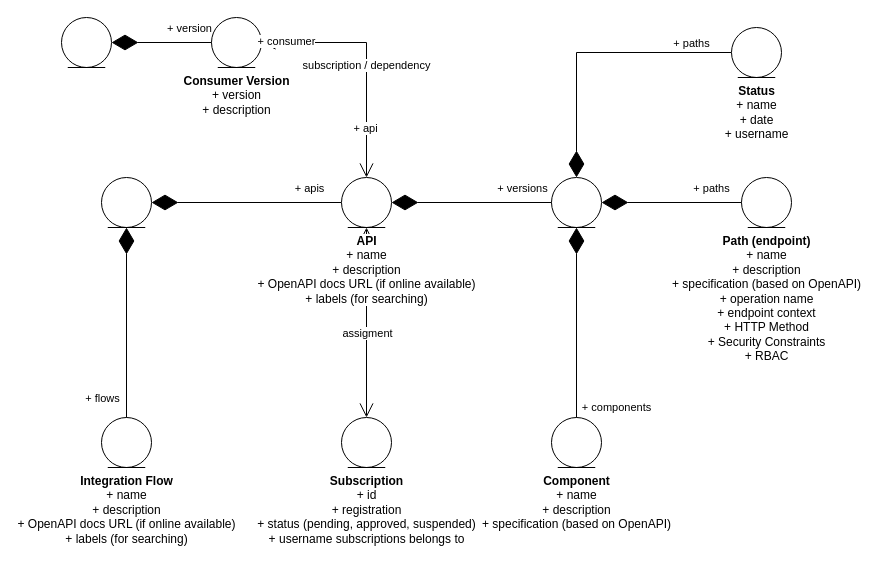
The diagram is 878 pixels wide and 564 high, and some of its shapes have lost their labels. Here are the shapes that lost their labels. From the top down, the centre of each, then its label:
At (86,42): "Consumer + name + description".
At (126,202): "Domain + id + name + description + logo + labels (for searching)".
At (576,202): "API Version + tag + description (markdown)".
